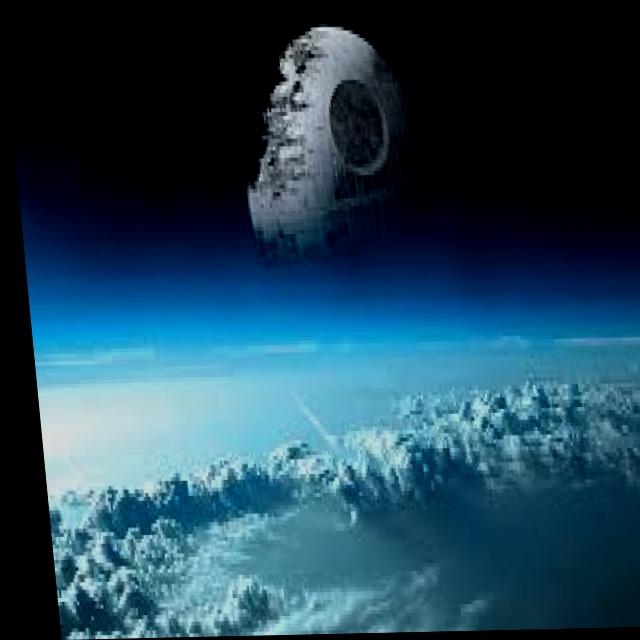deathStar: (228, 24, 441, 284)
